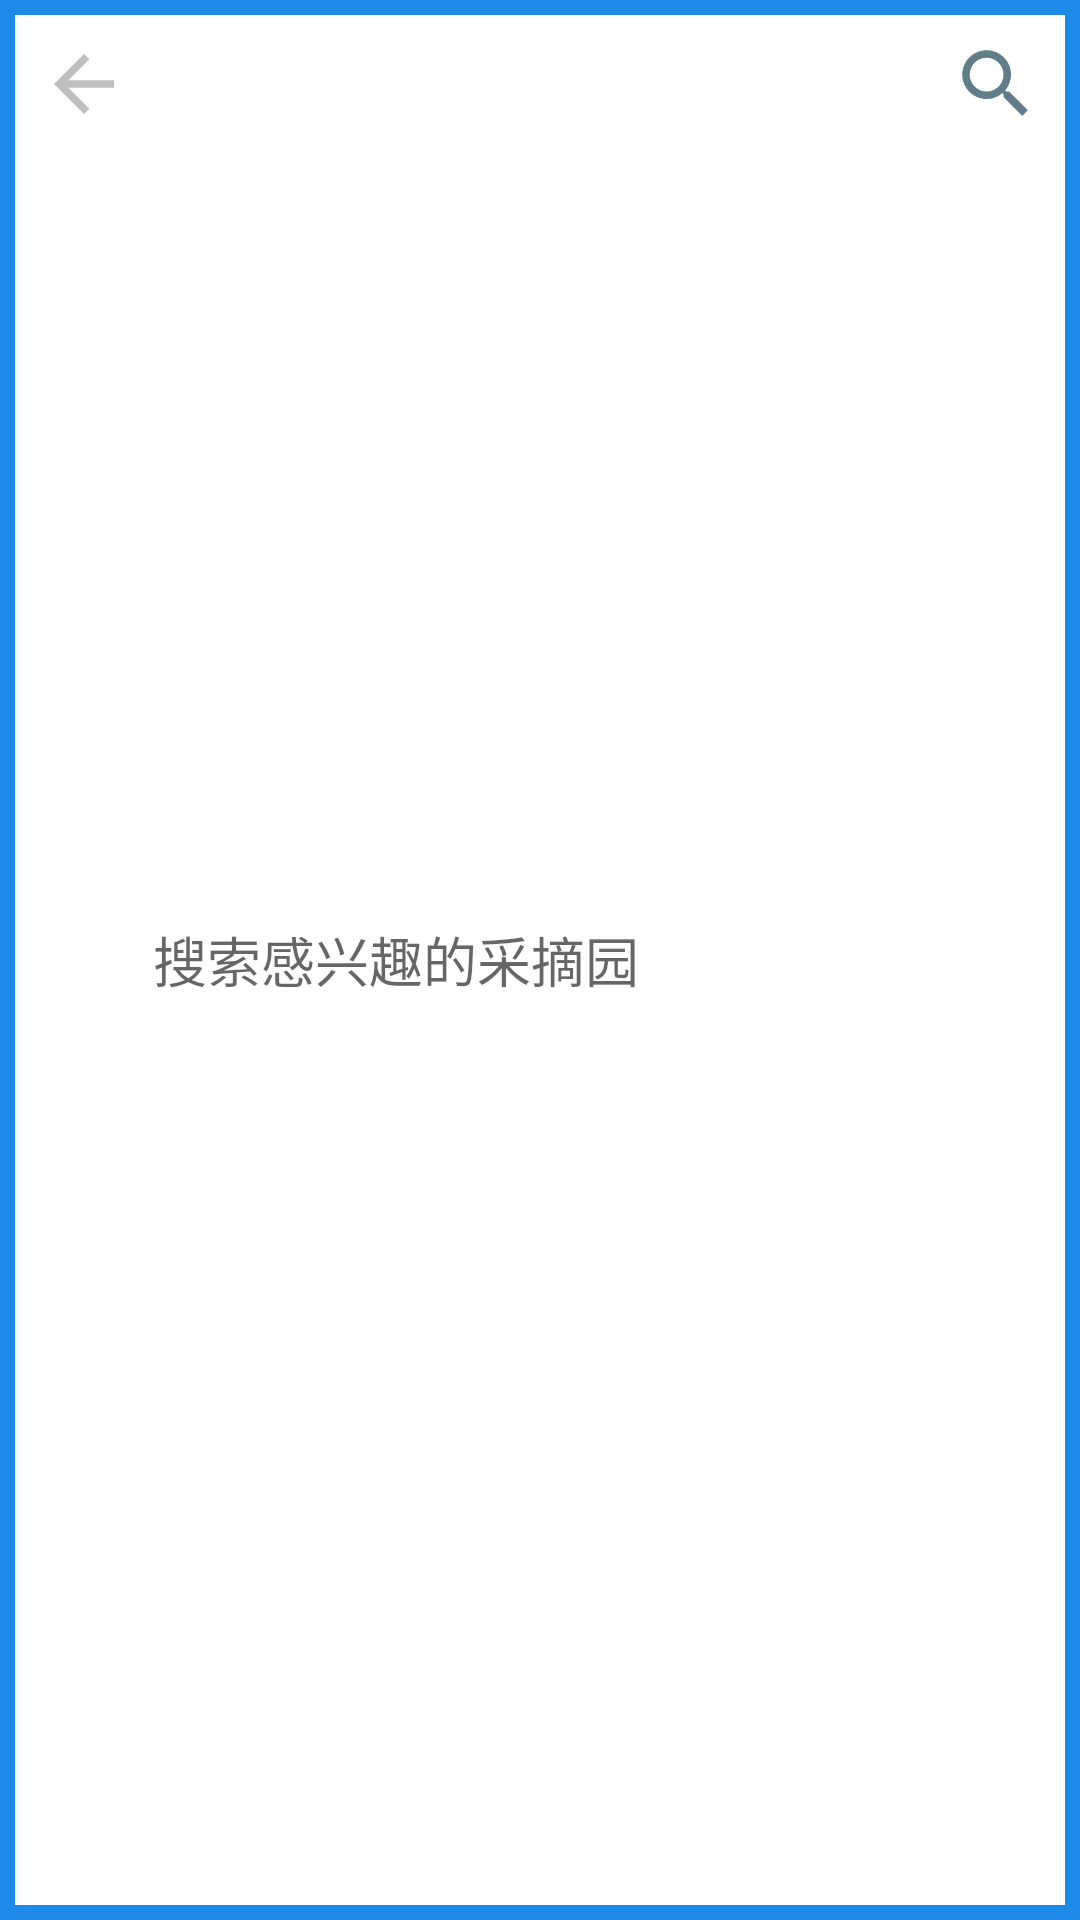

Icon bounding boxes for this 1080 × 1920 phone screenshot, format box(x1, y1, x2, y2):
arraw back: box(54, 54, 114, 114)
search: box(962, 50, 1028, 116)
